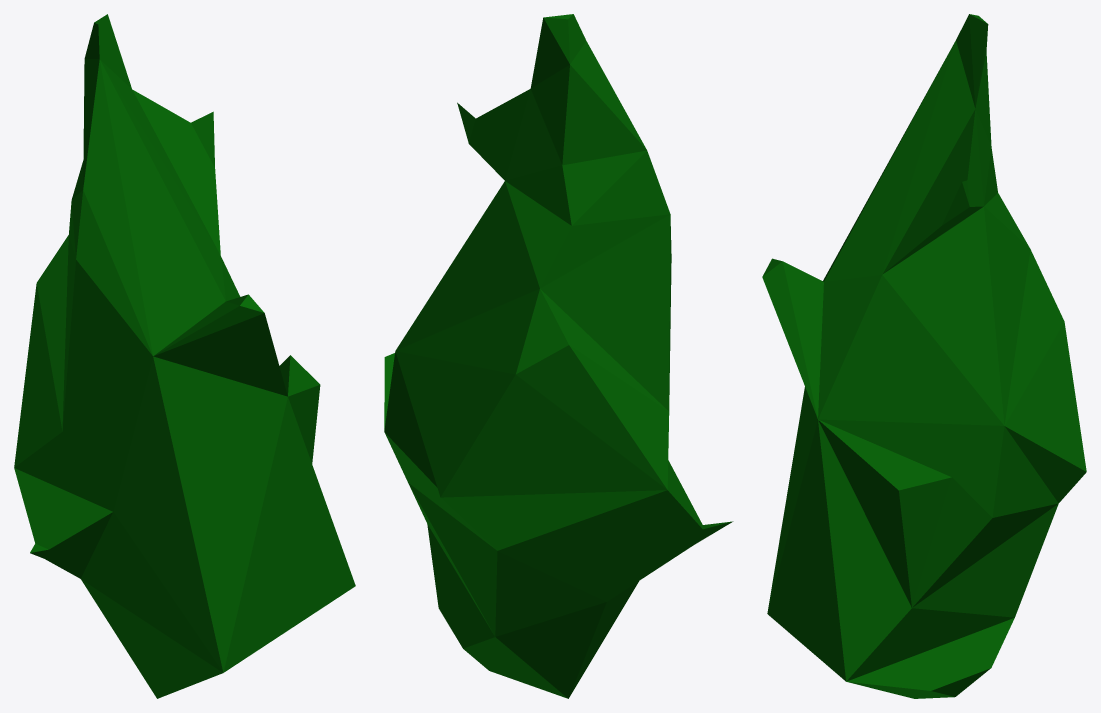
File: ammo_D.FBX
3 renders of one model, left to right at view 1: azimuth 30°, elevation 25°; view 2: azimuth 150°, elevation 25°; view 3: azimuth 270°, elevation 25°, orthographic. The views are drawn at different scales.
Visible parts, largest first — view 1: ammo_D; view 2: ammo_D; view 3: ammo_D.
Part boxes in pixels (x1,y1,x2,y2): ammo_D: (14, 14, 355, 698); ammo_D: (384, 14, 733, 698); ammo_D: (762, 14, 1086, 698).
Size of the model in its own units: 9.6 by 19.91 by 8.75.
